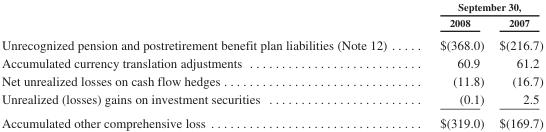table: (0, 0, 542, 129)
table column: (0, 0, 412, 129), (412, 0, 491, 129), (491, 0, 542, 129)
table column header: (0, 0, 542, 32)
table row: (0, 32, 542, 53), (0, 89, 542, 110), (0, 110, 542, 129), (0, 14, 542, 32), (0, 53, 542, 71), (0, 71, 542, 89), (0, 0, 542, 14)
table spanning cell: (412, 0, 542, 14)
